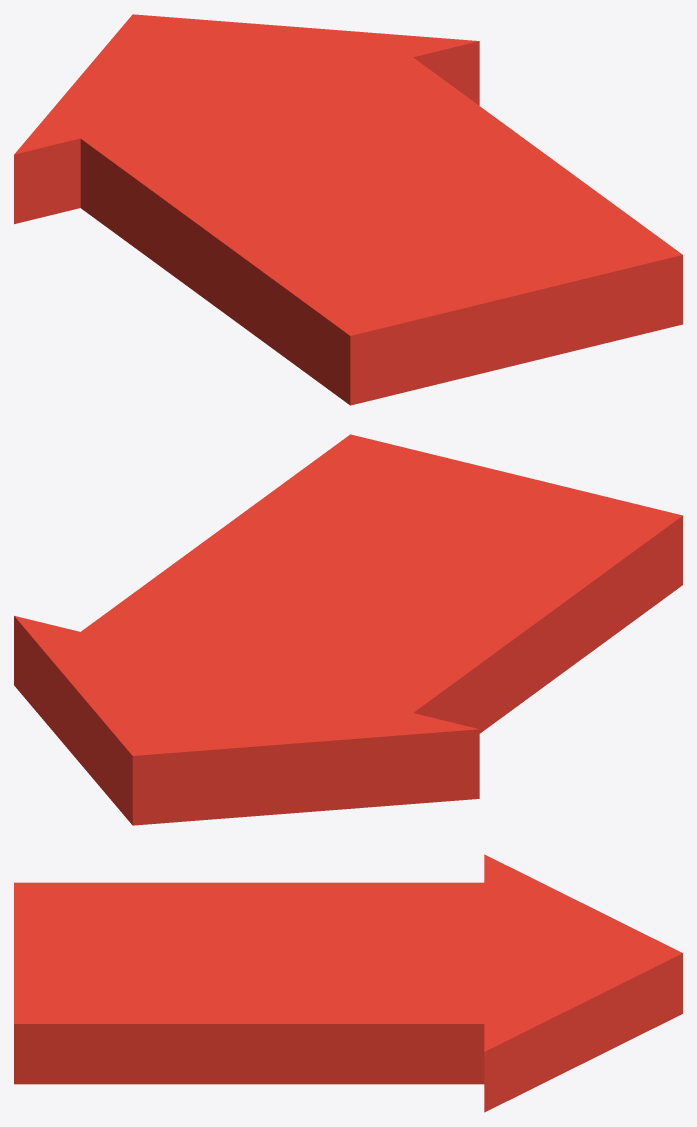
File: Arrow.glb
3 views of the same model, one above another, from view 1: azimuth 30°, elevation 25°; view 2: azimuth 150°, elevation 25°; view 3: azimuth 270°, elevation 25° (orthographic). The views are drawn at different scales.
Parts seen in each view (by area): view 1: Arrow; view 2: Arrow; view 3: Arrow.
Part boxes in pixels (x1=…): Arrow: x1=14, y1=14, x2=682, y2=405; Arrow: x1=14, y1=434, x2=682, y2=825; Arrow: x1=14, y1=854, x2=682, y2=1112.
Size of the model in its own units: 0.7 by 0.1 by 1.
